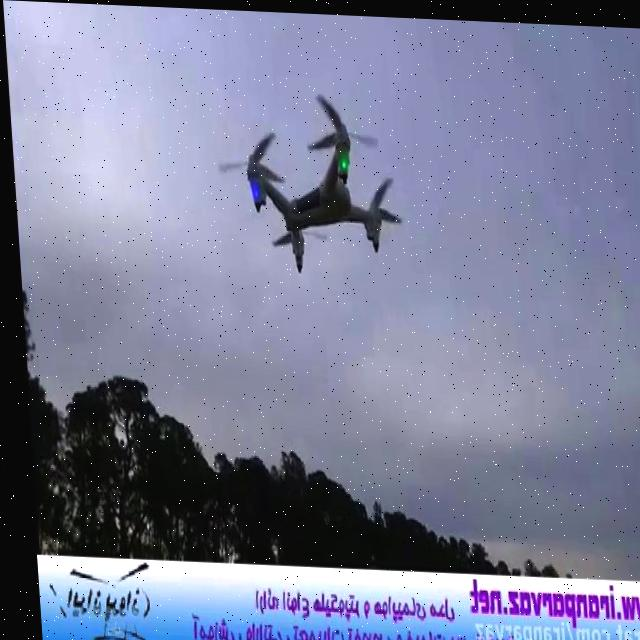drone: (209, 82, 407, 277)
